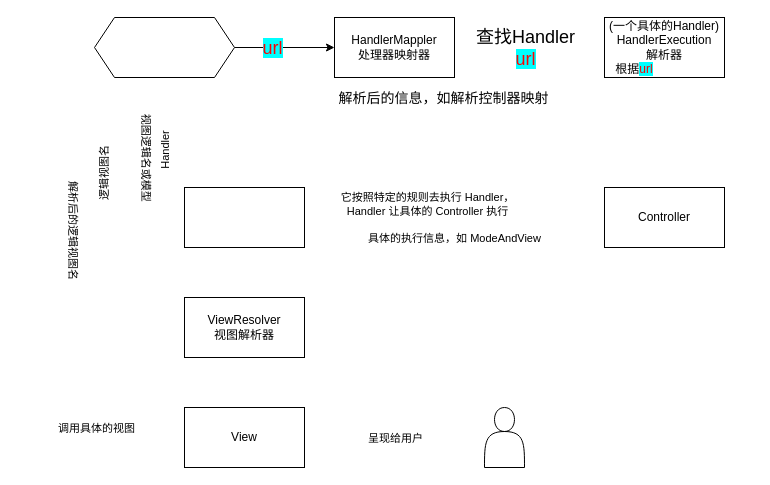
Image size: 770x485. Some labels were removed from this diagram. The shapes that lost their labels are listed below. From the top down, each one's centre as x and y in pixels, then its label:
(164,47): DispatcherServlet
(244,217): HandlerAdapter 适配器处理器
